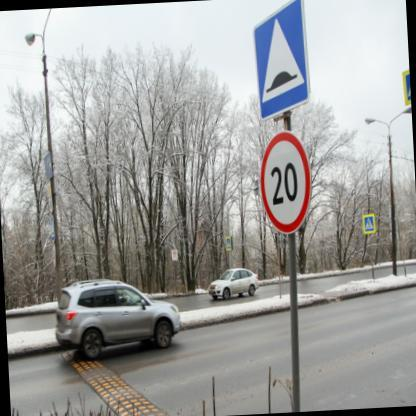obstructed_road_sign: (402, 70, 413, 110)
road_sign: (255, 0, 308, 118), (260, 131, 310, 232), (362, 213, 377, 235), (226, 236, 232, 250)
